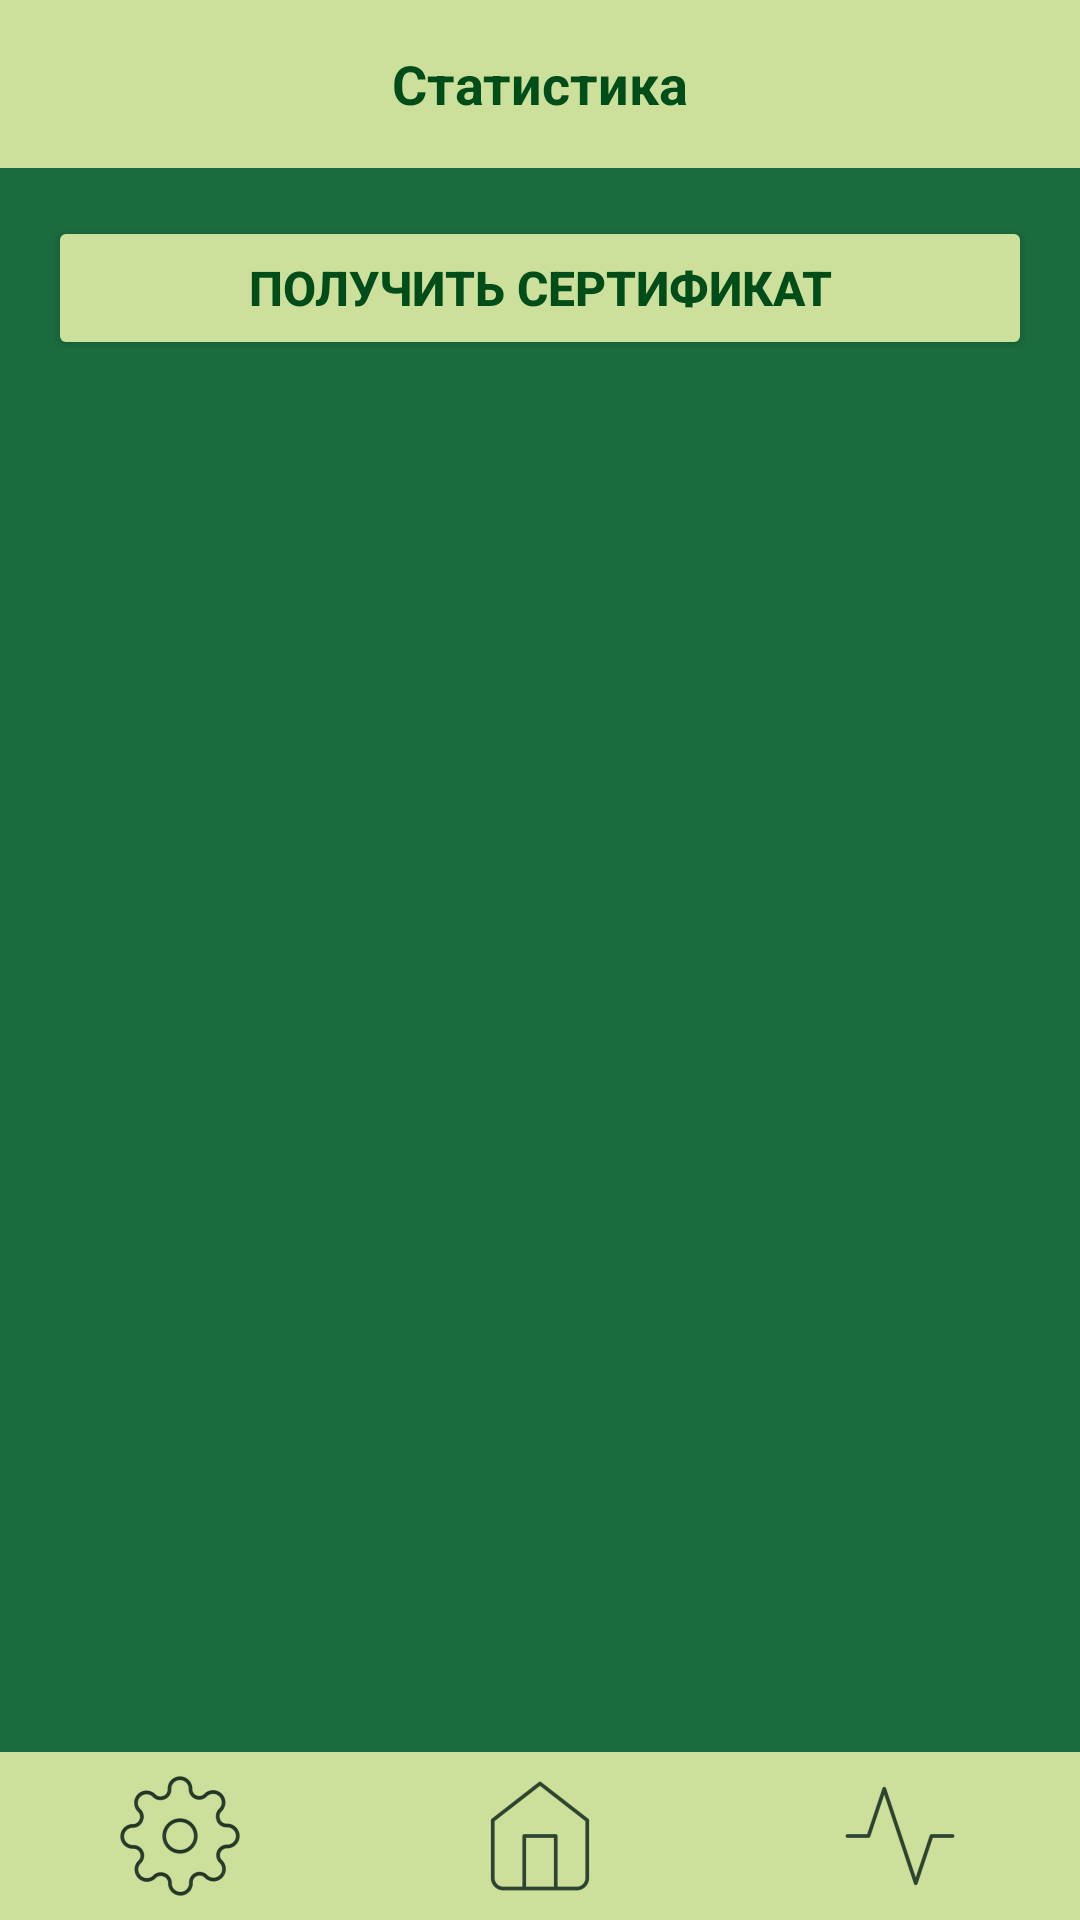

Icon bounding boxes for this 1080 × 1920 phone screenshot, format [x1=x1, y1=y1, x2=x2, y2=y2]:
home: [x1=491, y1=1781, x2=589, y2=1891]
setting: [x1=120, y1=1776, x2=240, y2=1896]
stats: [x1=845, y1=1787, x2=955, y2=1885]
